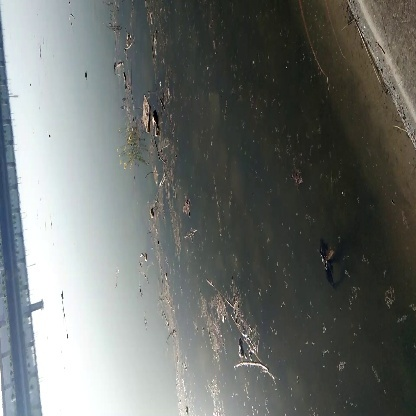plastic-garbage: (135, 91, 166, 138)
